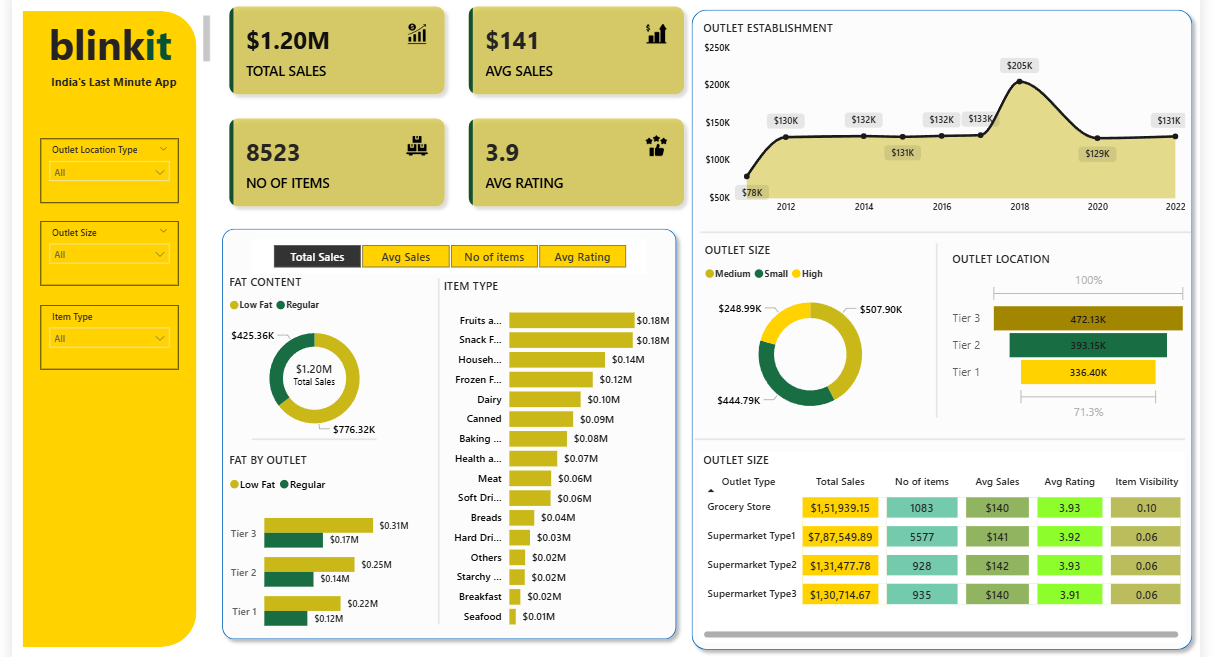

Layout of this report page (visuals, bound fields, positions):
{"tool":"powerbi","page":{"name":"Page 1","canvas":[1400,800],"ordinal":0},"visuals":[{"type":"shape","box":[12.4,24.7,205,749.4],"z":0},{"type":"textbox","box":[0,24.7,238.6,68.9],"z":1000},{"type":"textbox","box":[17.7,93.7,205,42.4],"z":2000},{"type":"cardVisual","fields":{"Data":["BlinkIT Grocery Data.Total Sales","BlinkIT Grocery Data.Avg Sales","BlinkIT Grocery Data.No of items","BlinkIT Grocery Data.Avg Rating"]},"box":[238.6,1.8,570.9,270.4],"z":3000},{"type":"shape","box":[238.6,272.2,553.2,501.9],"z":4000},{"type":"donutChart","title":"FAT CONTENT","fields":{"Y":["BlinkIT Grocery Data.Total Sales"],"Category":["BlinkIT Grocery Data.Item Fat Content"]},"box":[251,334,210.3,201.5],"z":5000},{"type":"slicer","fields":{"Values":["Metrics.Metrics"]},"box":[282.8,293.4,464.8,40.6],"z":6000},{"type":"cardVisual","fields":{"Data":["BlinkIT Grocery Data.Total Sales"]},"box":[304,418.9,104.3,63.6],"z":7000},{"type":"clusteredBarChart","title":"FAT BY OUTLET","fields":{"Y":["BlinkIT Grocery Data.Total Sales"],"Category":["BlinkIT Grocery Data.Outlet Location Type"],"Series":["BlinkIT Grocery Data.Item Fat Content"]},"box":[251,544.3,220.9,229.8],"z":8000},{"type":"shape","box":[282.8,523.1,146.7,12.4],"z":9000},{"type":"shape","box":[489.6,339.3,26.5,408.3],"z":10000},{"type":"barChart","title":"ITEM TYPE","fields":{"Y":["BlinkIT Grocery Data.Total Sales"],"Category":["BlinkIT Grocery Data.Item Type"]},"box":[503.7,339.3,275.7,422.4],"z":11000},{"type":"shape","box":[791.8,14.1,608,772.3],"z":12000},{"type":"lineChart","title":"OUTLET ESTABLISHMENT","fields":{"Y":["BlinkIT Grocery Data.Total Sales"],"Category":["BlinkIT Grocery Data.Outlet Establishment Year"]},"box":[809.4,35.3,577.9,236.8],"z":13000},{"type":"donutChart","title":"OUTLET SIZE","fields":{"Y":["BlinkIT Grocery Data.Total Sales"],"Category":["BlinkIT Grocery Data.Outlet Size"]},"box":[811.2,296.9,258,219.2],"z":14000},{"type":"shape","box":[1067.5,298.7,44.2,205],"z":15000},{"type":"funnel","title":"OUTLET LOCATION","fields":{"Y":["Sum(BlinkIT Grocery Data.Sales)"],"Category":["BlinkIT Grocery Data.Outlet Location Type"]},"box":[1102.8,307.5,286.3,203.2],"z":16000},{"type":"shape","box":[804.1,516.1,577.9,26.5],"z":17000},{"type":"shape","box":[811.2,272.2,577.9,26.5],"z":18000},{"type":"pivotTable","title":"OUTLET SIZE","fields":{"Rows":["BlinkIT Grocery Data.Outlet Type"],"Values":["BlinkIT Grocery Data.Total Sales","BlinkIT Grocery Data.No of items","BlinkIT Grocery Data.Avg Sales","BlinkIT Grocery Data.Avg Rating","Avg(BlinkIT Grocery Data.Item Visibility)"]},"box":[809.4,544.3,572.6,224.5],"z":18001},{"type":"slicer","fields":{"Values":["BlinkIT Grocery Data.Outlet Location Type"]},"box":[33.6,175,162.6,76],"z":18002},{"type":"slicer","fields":{"Values":["BlinkIT Grocery Data.Outlet Size"]},"box":[33.6,272.2,162.6,76],"z":18003},{"type":"slicer","fields":{"Values":["BlinkIT Grocery Data.Item Type"]},"box":[33.6,371.1,162.6,76],"z":18004}]}

Visuals, with their boxes on the page's 1400x800 design canvas (x1, y1, x2, y2). These are canvas units, not pixel positions in the 1220x657 screenshot, which may show the page scaled, cropped or inside an application window:
shape: [x1=12, y1=25, x2=217, y2=774]
textbox: [x1=0, y1=25, x2=239, y2=94]
textbox: [x1=18, y1=94, x2=223, y2=136]
cardVisual - BlinkIT Grocery Data.Total Sales x BlinkIT Grocery Data.Avg Sales: [x1=239, y1=2, x2=810, y2=272]
shape: [x1=239, y1=272, x2=792, y2=774]
"FAT CONTENT" donutChart: [x1=251, y1=334, x2=461, y2=536]
slicer - Metrics.Metrics: [x1=283, y1=293, x2=748, y2=334]
cardVisual - BlinkIT Grocery Data.Total Sales: [x1=304, y1=419, x2=408, y2=482]
"FAT BY OUTLET" clusteredBarChart: [x1=251, y1=544, x2=472, y2=774]
shape: [x1=283, y1=523, x2=430, y2=536]
shape: [x1=490, y1=339, x2=516, y2=748]
"ITEM TYPE" barChart: [x1=504, y1=339, x2=779, y2=762]
shape: [x1=792, y1=14, x2=1400, y2=786]
"OUTLET ESTABLISHMENT" lineChart: [x1=809, y1=35, x2=1387, y2=272]
"OUTLET SIZE" donutChart: [x1=811, y1=297, x2=1069, y2=516]
shape: [x1=1068, y1=299, x2=1112, y2=504]
"OUTLET LOCATION" funnel: [x1=1103, y1=308, x2=1389, y2=511]
shape: [x1=804, y1=516, x2=1382, y2=543]
shape: [x1=811, y1=272, x2=1389, y2=299]
"OUTLET SIZE" pivotTable: [x1=809, y1=544, x2=1382, y2=769]
slicer - BlinkIT Grocery Data.Outlet Location Type: [x1=34, y1=175, x2=196, y2=251]
slicer - BlinkIT Grocery Data.Outlet Size: [x1=34, y1=272, x2=196, y2=348]
slicer - BlinkIT Grocery Data.Item Type: [x1=34, y1=371, x2=196, y2=447]
